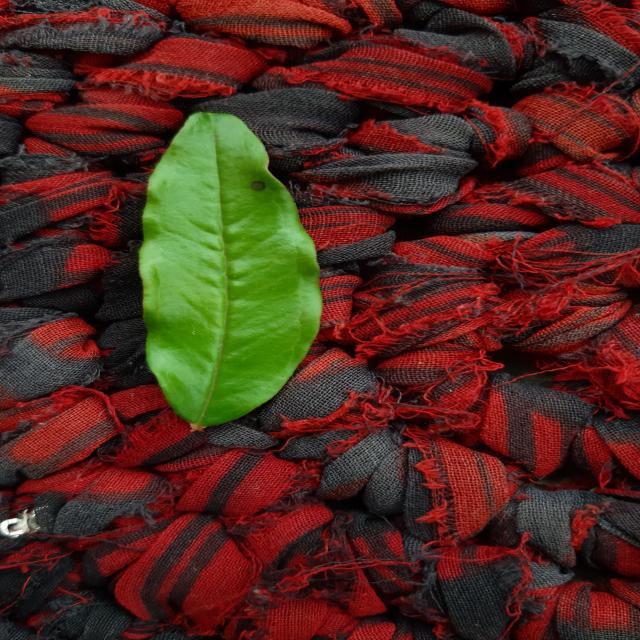pomgranate: (140, 112, 322, 429)
